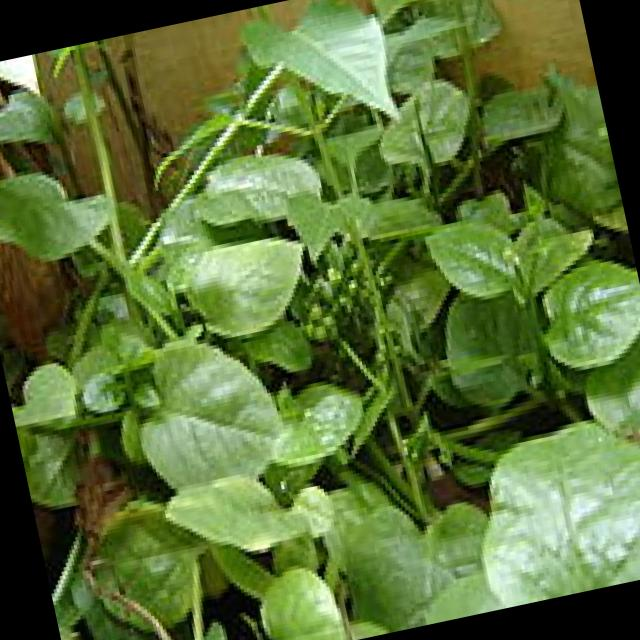Medicinal-Basale: (97, 0, 640, 640)
